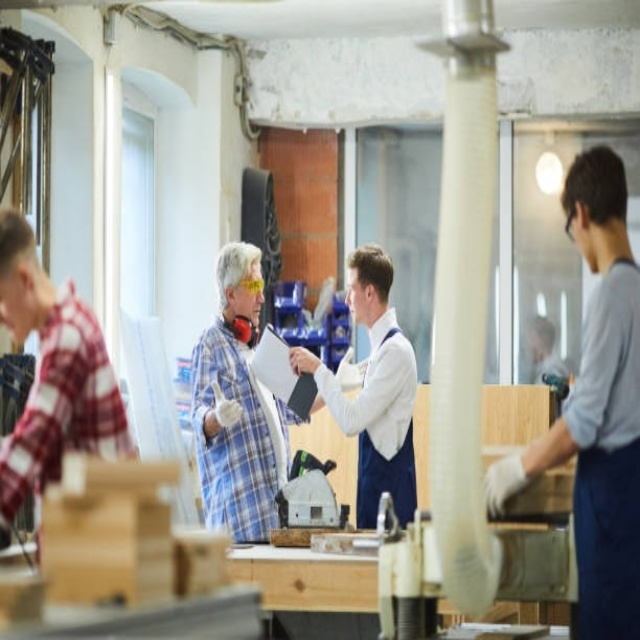Gafas: (564, 206, 579, 241), (236, 278, 265, 294)
Guantes: (482, 452, 531, 518), (213, 379, 243, 429), (336, 352, 364, 392)
Sin_gafas: (346, 273, 362, 295)
Sin_guantes: (288, 345, 320, 379)
Sin_mascara: (247, 301, 264, 322), (344, 300, 361, 320)
